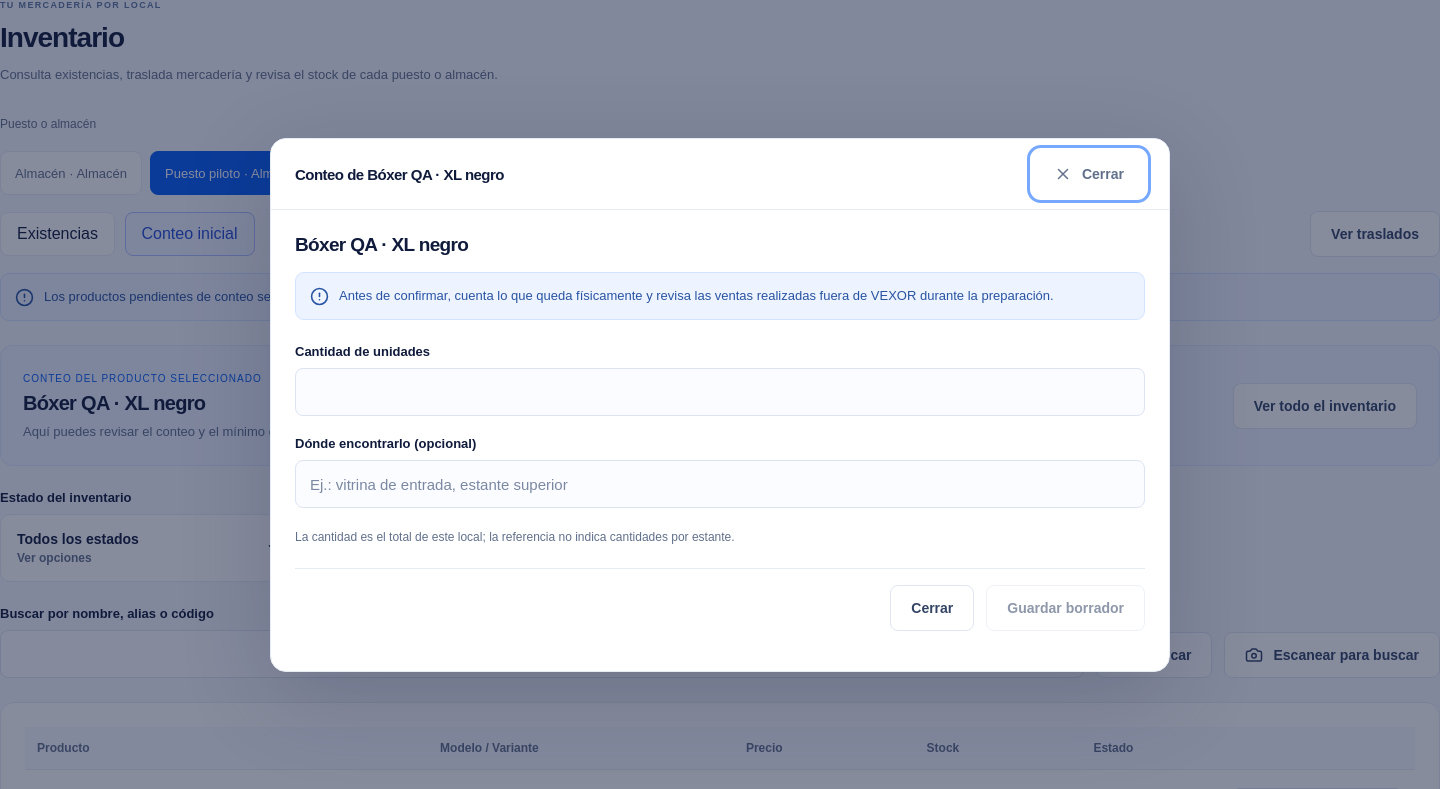
Scenario: abre la combinación exacta y no el primer producto del inventario
Expected: the dialog "Conteo de Bóxer QA · XL negro" is shown, [270, 138, 1170, 672]
Click the button with aria-label "Cerrar Conteo de Bóxer QA · XL negro". click: x=1089, y=174
box: [1033, 151, 1145, 197]
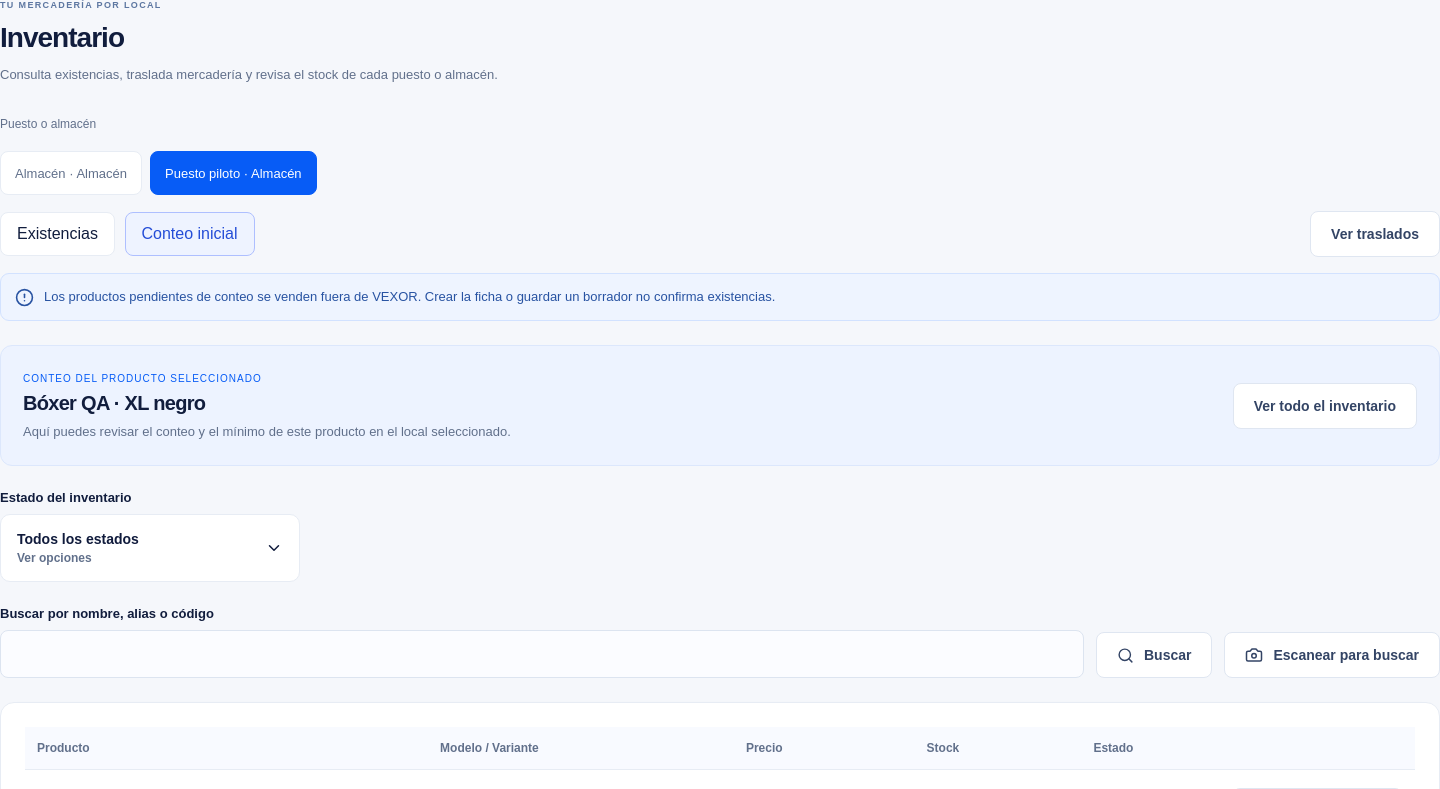
Expected: the heading "Bóxer QA · XL negro" is shown, [23, 392, 205, 414]
Result: the dialog is gone
